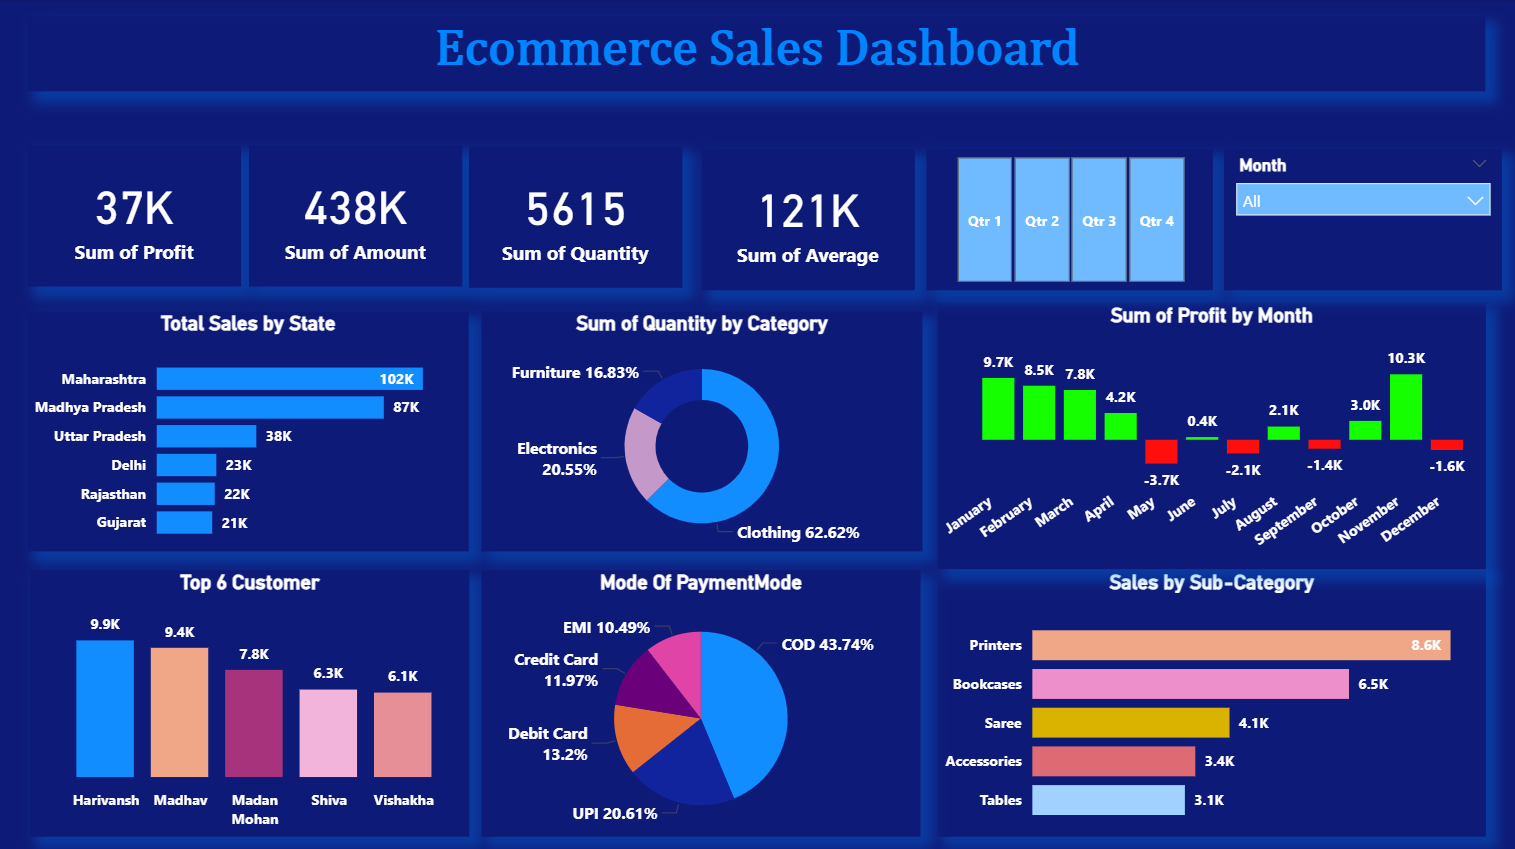

Layout of this report page (visuals, bound fields, positions):
{"tool":"powerbi","page":{"name":"Page 1","canvas":[1280,720],"ordinal":0},"visuals":[{"type":"textbox","box":[24.7,15.1,1229.5,63.1],"z":0},{"type":"card","fields":{"Values":["Sum(Details.Profit)"]},"box":[24.7,123.5,179.8,119.4],"z":1000},{"type":"card","fields":{"Values":["Sum(Details.Amount)"]},"box":[211.3,123.5,179.8,119.4],"z":2000},{"type":"card","fields":{"Values":["Sum(Details.Quantity)"]},"box":[396.6,124.9,179.8,119.4],"z":3000},{"type":"card","fields":{"Values":["Sum(Details.Average)"]},"box":[592.8,126.2,179.8,119.4],"z":4000},{"type":"clusteredBarChart","title":"Total Sales by State","fields":{"Category":["Orders.State"],"Y":["Sum(Details.Amount)"]},"box":[24.4,264,372.1,202.3],"z":5000},{"type":"donutChart","fields":{"Y":["Sum(Details.Quantity)"],"Category":["Details.Category"]},"box":[407,264,372.1,202.3],"z":6000},{"type":"clusteredBarChart","title":"Sales by Sub-Category","fields":{"Y":["Sum(Details.Profit)"],"Category":["Details.Sub-Category"]},"box":[791.8,481.6,462.4,225],"z":7000},{"type":"columnChart","title":"Top 6 Customer","fields":{"Category":["Orders.CustomerName"],"Y":["Sum(Details.Amount)"]},"box":[26.1,481.6,370.5,225],"z":8000},{"type":"pieChart","title":"Mode Of PaymentMode","fields":{"Y":["Sum(Details.Quantity)"],"Category":["Details.PaymentMode"]},"box":[407.5,481.6,370.5,225],"z":9000},{"type":"columnChart","fields":{"Y":["Sum(Details.Profit)"],"Category":["Orders.Order Date.Variation.Date Hierarchy.Month"]},"box":[791.8,256.6,462.4,225],"z":10000},{"type":"slicer","fields":{"Values":["Orders.Order Date.Variation.Date Hierarchy.Quarter"]},"box":[782.2,126.2,241.5,119.4],"z":10001},{"type":"slicer","fields":{"Values":["Orders.Order Date.Variation.Date Hierarchy.Month"]},"box":[1033.3,126.2,234.6,119.4],"z":10002}]}

Visuals, with their boxes in screenshot pixels (x1, y1, x2, y2), scaled from the page's 1280x720 canvas onto the 1515x849 screenshot:
textbox: left=29, top=18, right=1484, bottom=92
card - Sum(Details.Profit): left=29, top=146, right=242, bottom=286
card - Sum(Details.Amount): left=250, top=146, right=463, bottom=286
card - Sum(Details.Quantity): left=469, top=147, right=682, bottom=288
card - Sum(Details.Average): left=702, top=149, right=914, bottom=290
"Total Sales by State" clusteredBarChart: left=29, top=311, right=469, bottom=550
donutChart - Sum(Details.Quantity) x Details.Category: left=482, top=311, right=922, bottom=550
"Sales by Sub-Category" clusteredBarChart: left=937, top=568, right=1484, bottom=833
"Top 6 Customer" columnChart: left=31, top=568, right=469, bottom=833
"Mode Of PaymentMode" pieChart: left=482, top=568, right=921, bottom=833
columnChart - Sum(Details.Profit) x Orders.Order Date.Variation.Date Hierarchy.Month: left=937, top=303, right=1484, bottom=568
slicer - Orders.Order Date.Variation.Date Hierarchy.Quarter: left=926, top=149, right=1212, bottom=290
slicer - Orders.Order Date.Variation.Date Hierarchy.Month: left=1223, top=149, right=1501, bottom=290
